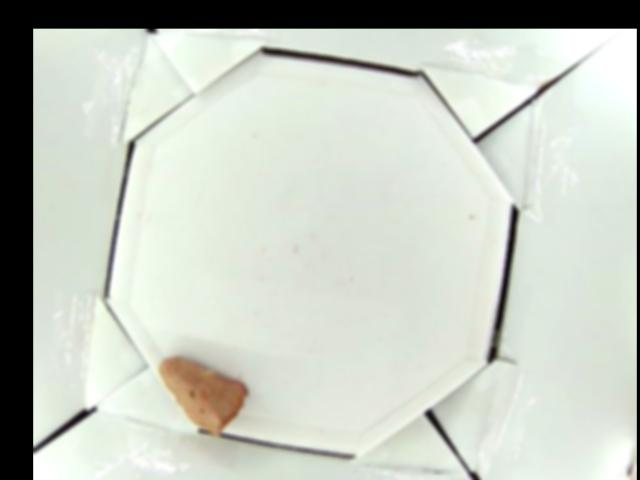Brisk: (160, 355, 248, 435)
